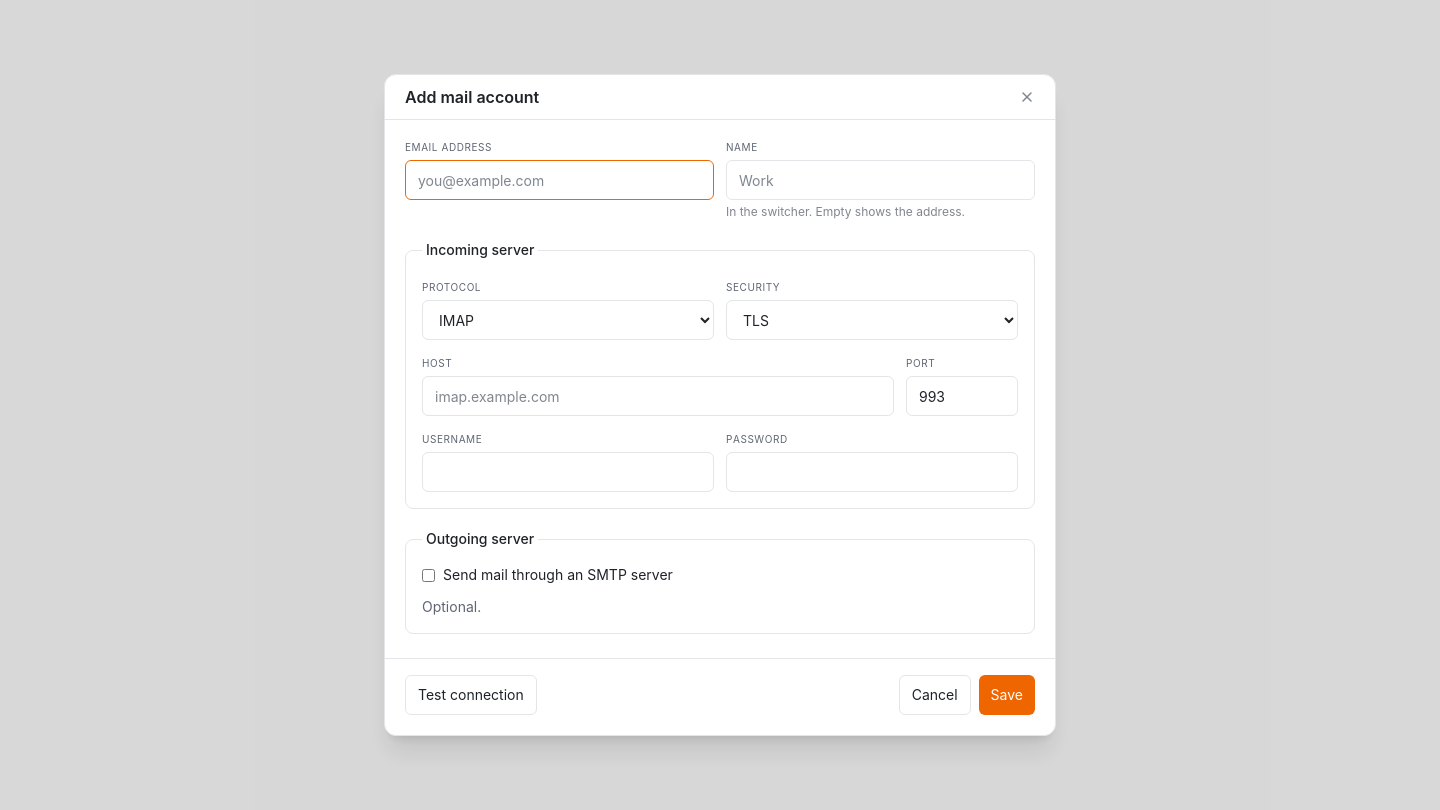
Test case: looking up a new config's servers › says when nothing was found
In the field labelled "Email address": x=560, y=180 [405, 160, 714, 200], type "misha@example.com"
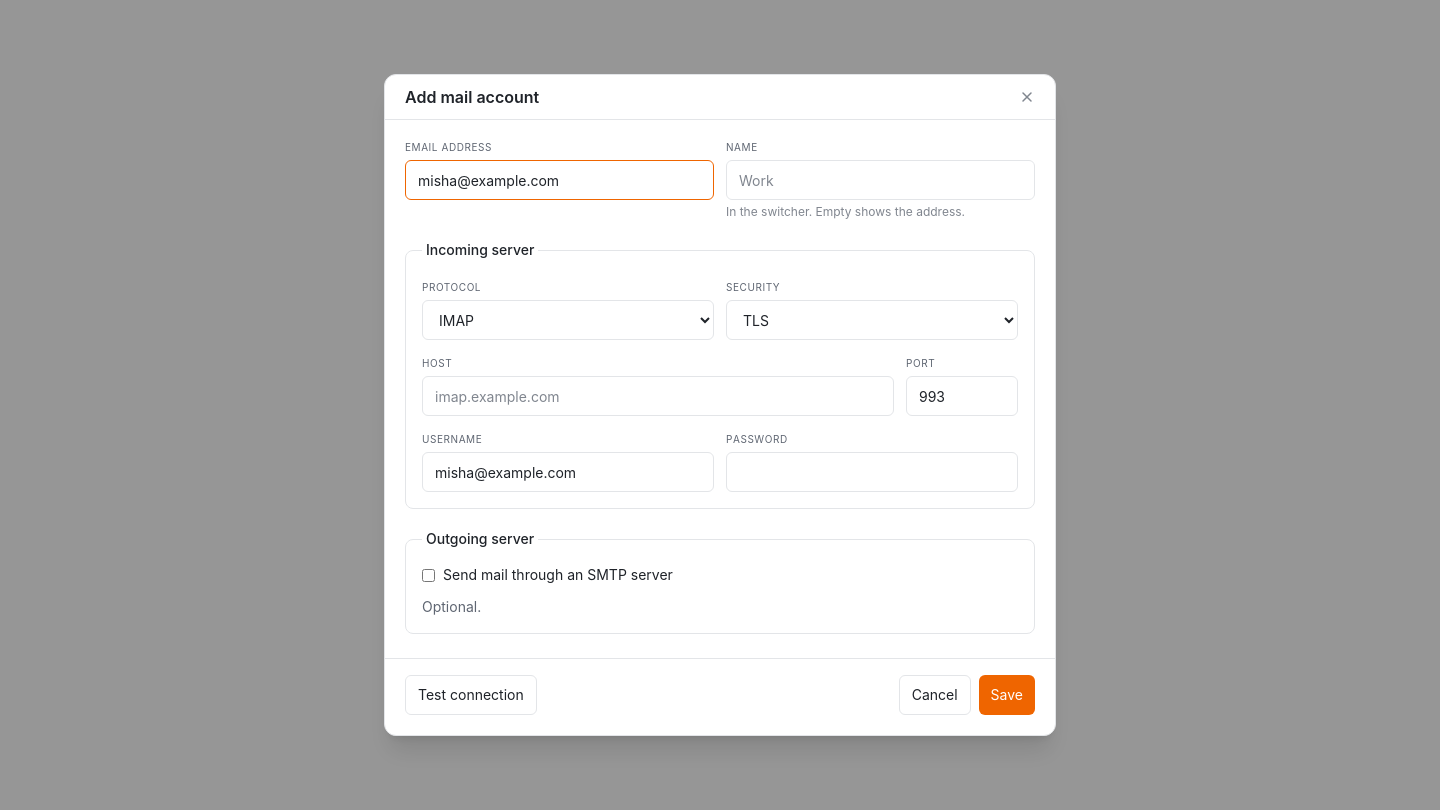
Leave the field labelled "Email address", box [405, 160, 714, 200]
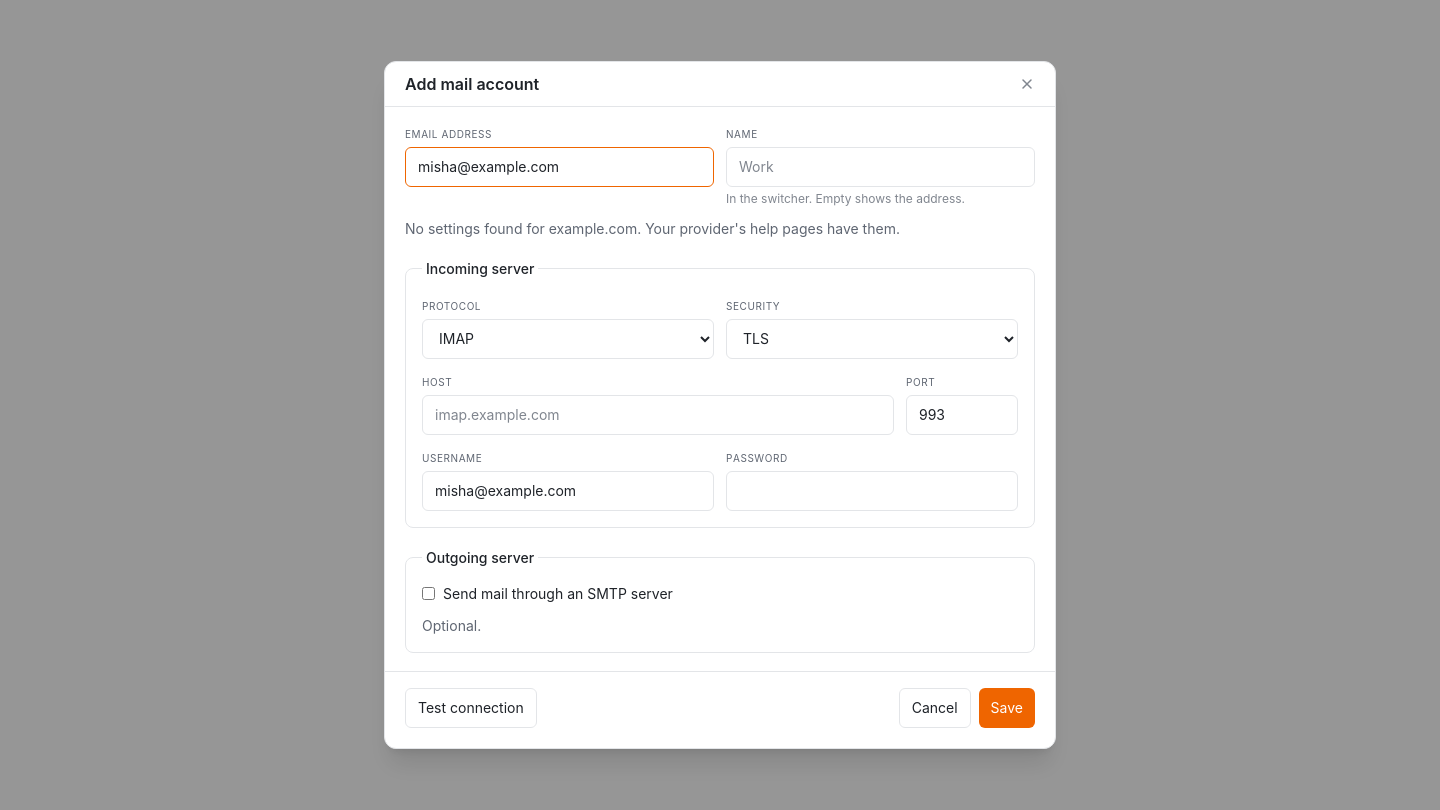
Expected: the text "No settings found for example.com. Your provider's help pages have them." is shown, [405, 220, 900, 237]
